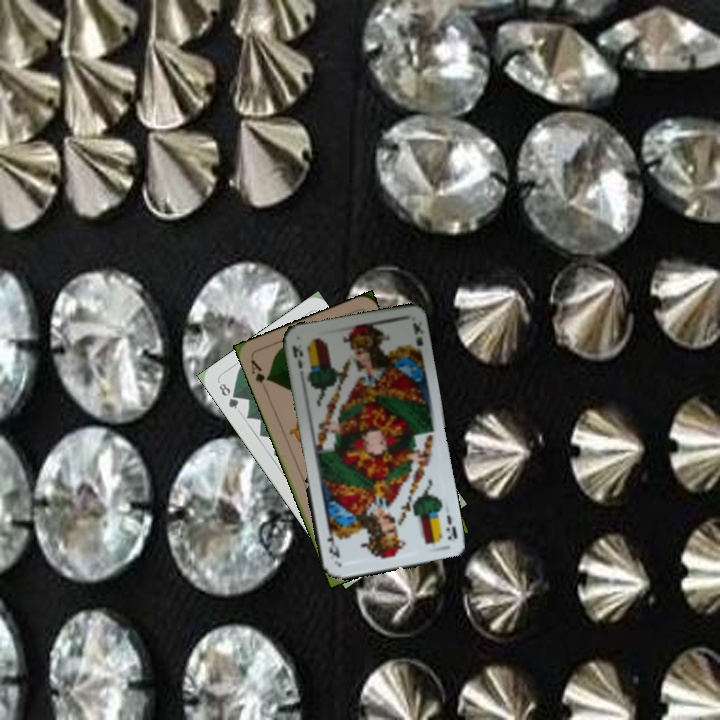EK: (442, 510, 459, 543), (288, 342, 306, 372)
G8: (215, 378, 241, 412)
GA: (246, 356, 272, 393)
